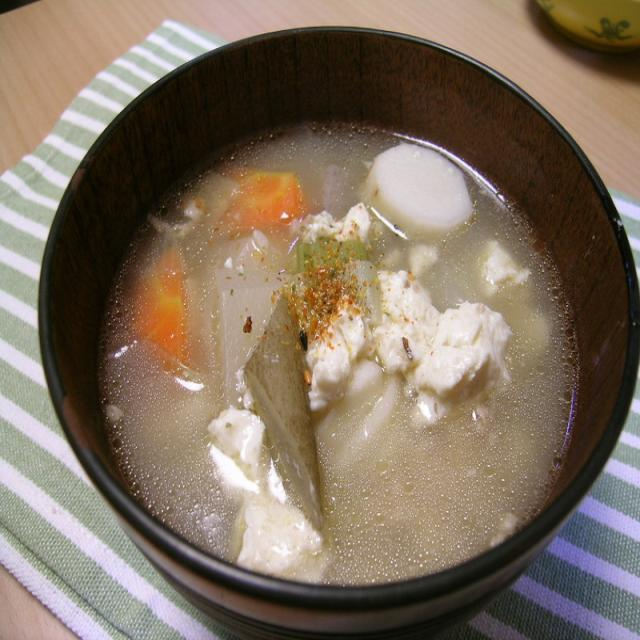蔬菜料理: (38, 26, 639, 640)
